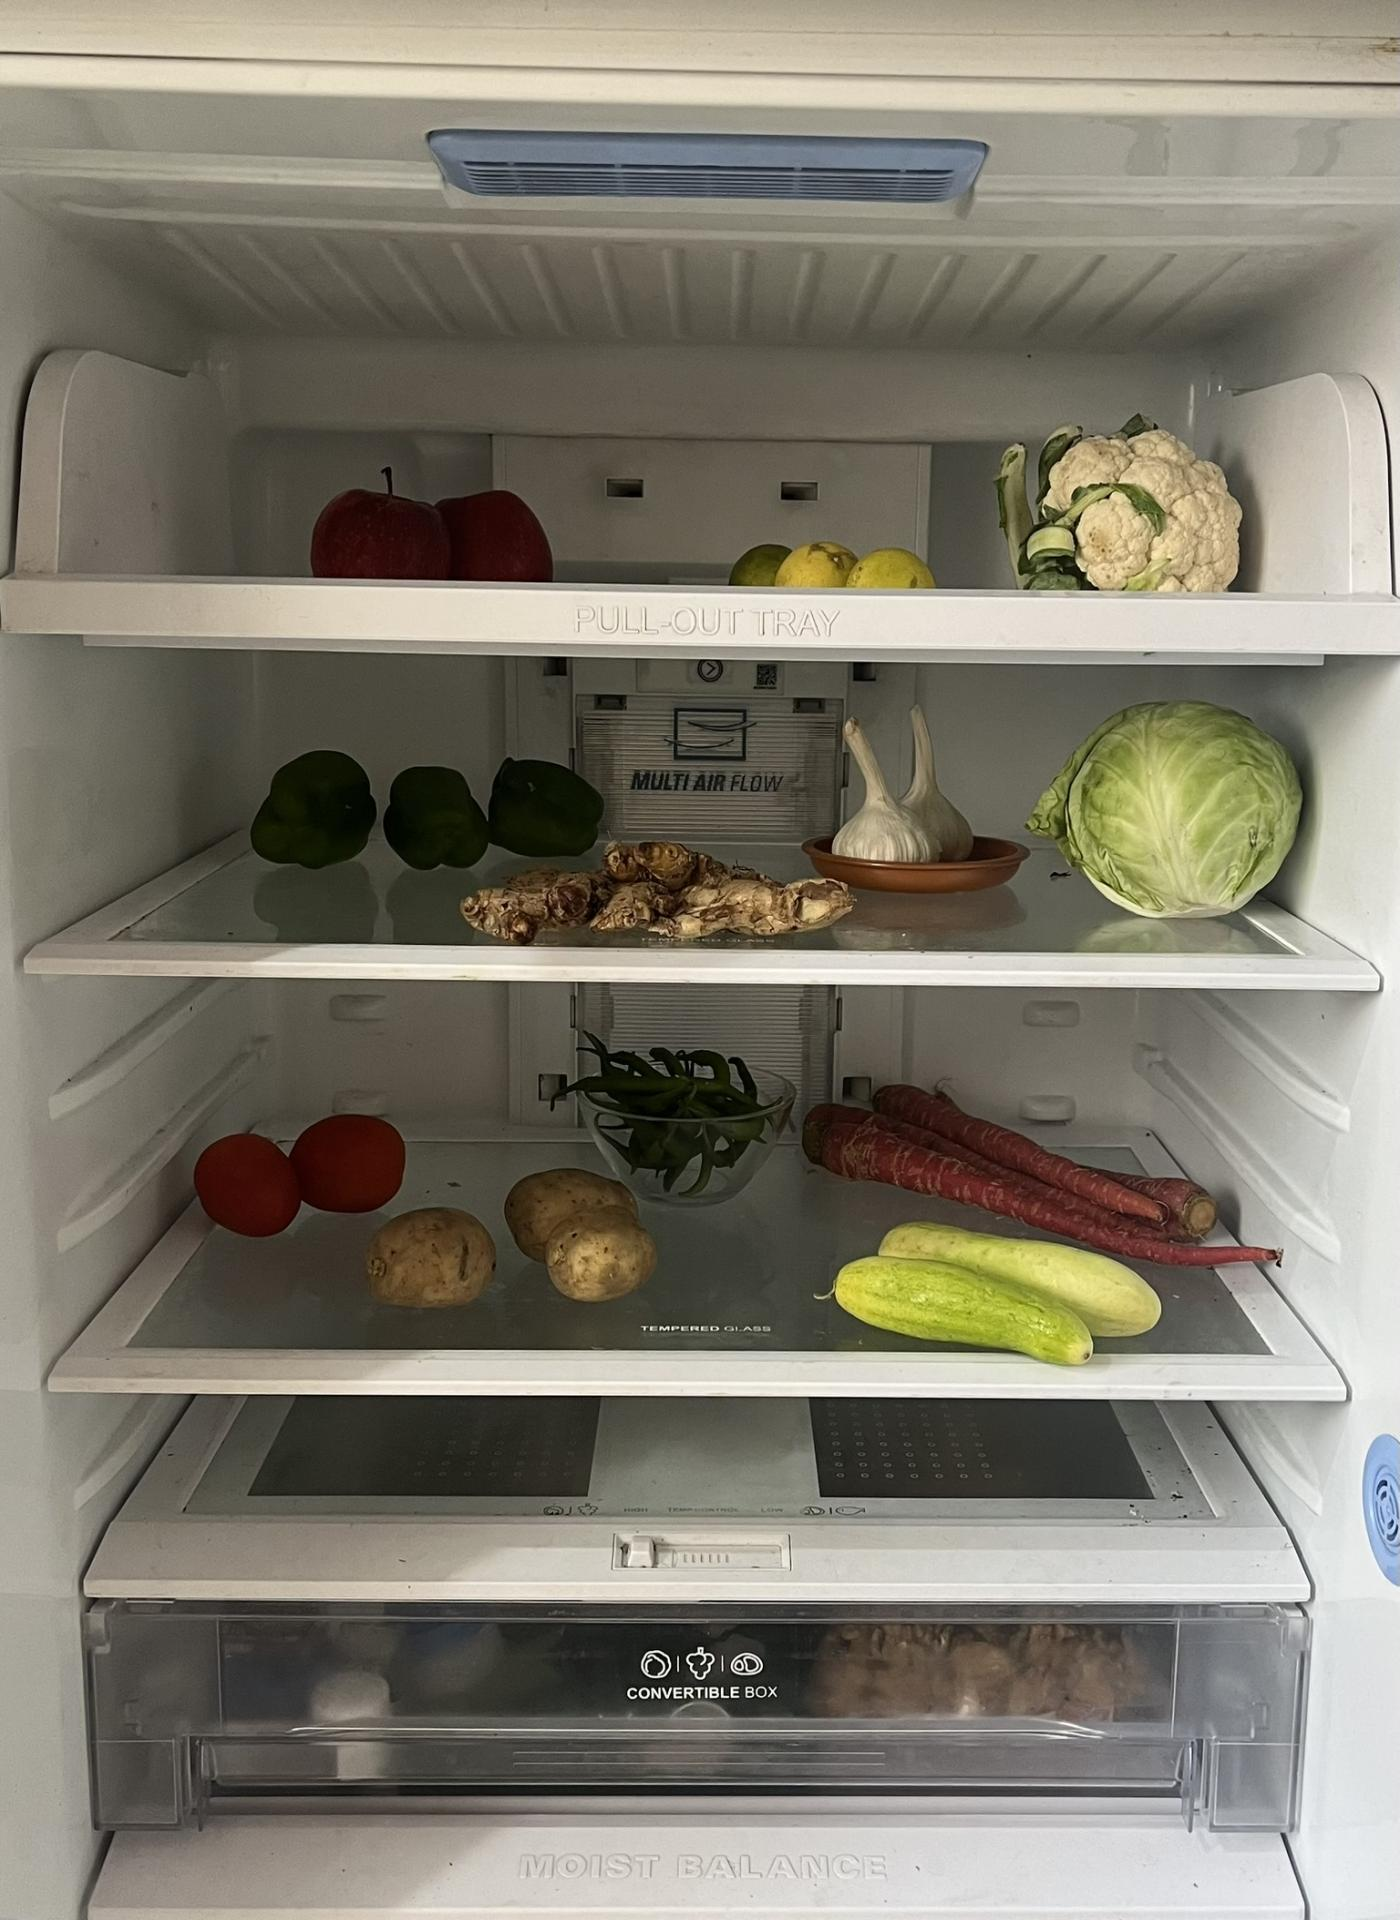apple: (321, 480, 547, 571)
cabbage: (1030, 702, 1303, 920)
capsicum: (258, 753, 607, 868)
carrots: (793, 1082, 1269, 1263)
cauliflower: (994, 413, 1242, 593)
chillies: (564, 1038, 769, 1200)
cucumber: (835, 1225, 1167, 1365)
garlic: (830, 710, 974, 863)
ginger: (465, 839, 856, 947)
lemon: (732, 544, 939, 586)
potato: (368, 1172, 653, 1307)
tomato: (192, 1109, 403, 1242)
